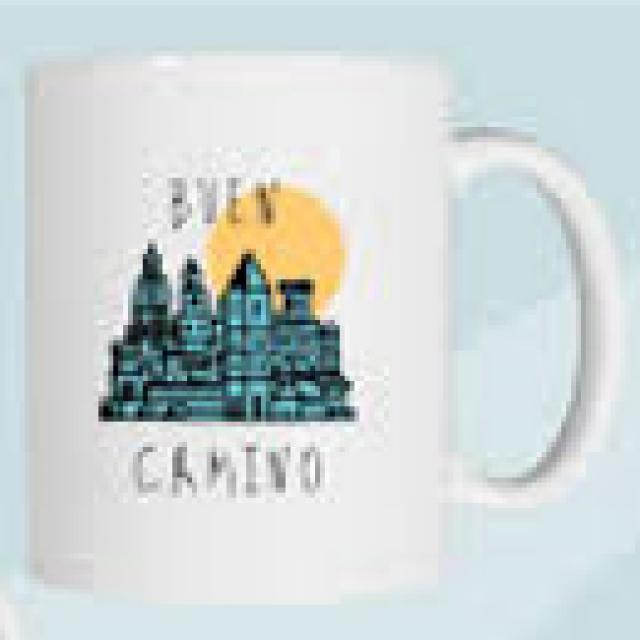taza: (24, 49, 622, 610)
